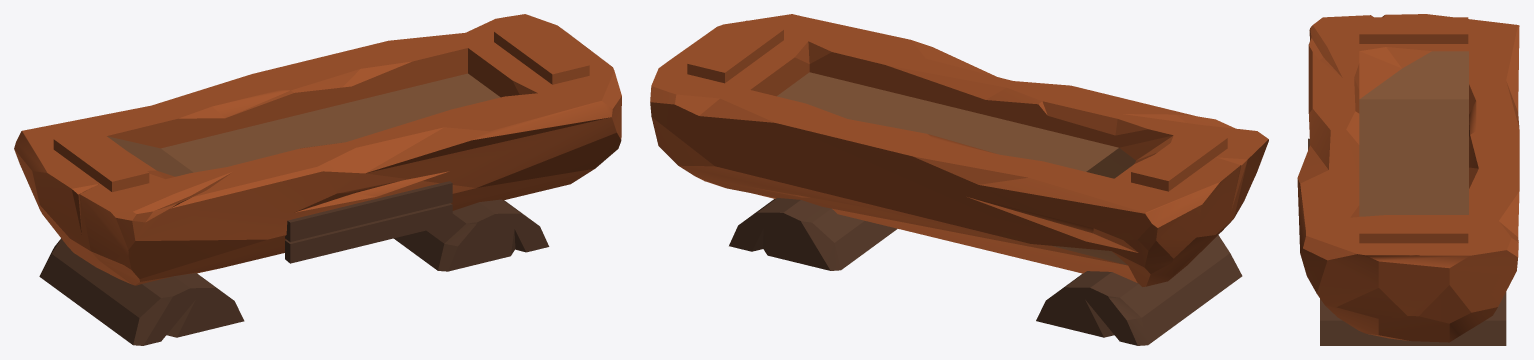
The model's file is Huapen.fbx.
The picture shows the model from 3 angles, left to right: view 1: azimuth 30°, elevation 25°; view 2: azimuth 150°, elevation 25°; view 3: azimuth 270°, elevation 25°; orthographic projection. The views are drawn at different scales.
Parts seen in each view (by area): view 1: huapen:Mesh; view 2: huapen:Mesh; view 3: huapen:Mesh.
Boxes of the visible parts, left/top/right/bottom form: huapen:Mesh: left=14, top=14, right=621, bottom=345; huapen:Mesh: left=650, top=14, right=1268, bottom=345; huapen:Mesh: left=1297, top=14, right=1519, bottom=345.
Size of the model in its own units: 45.53 by 12.17 by 17.47.
